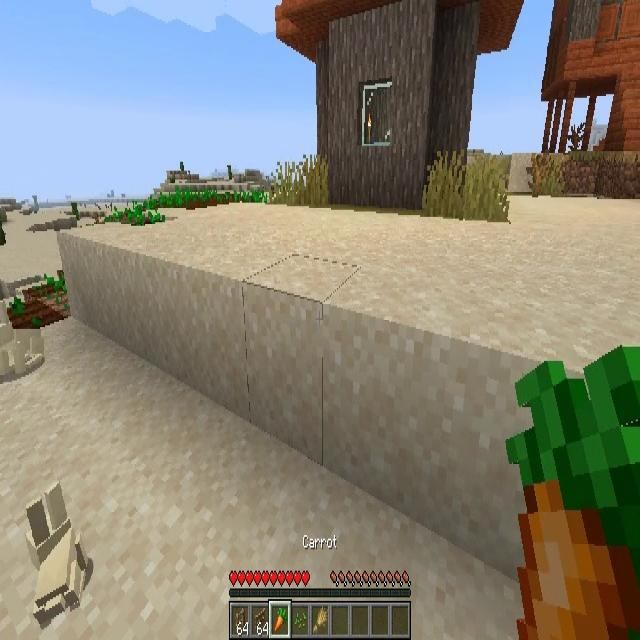rabbit: (21, 482, 92, 624), (0, 300, 48, 368)
